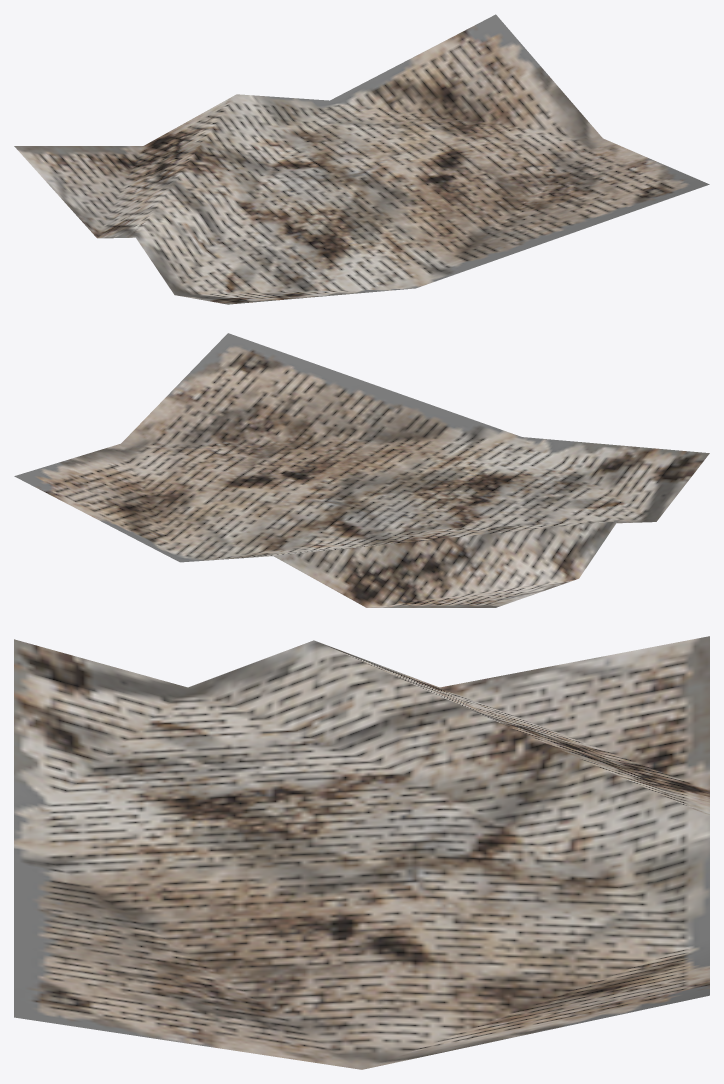
The model's file is Garbage1_4.fbx.
The picture shows the model from 3 angles, top to bottom: view 1: azimuth 30°, elevation 25°; view 2: azimuth 150°, elevation 25°; view 3: azimuth 270°, elevation 25°; orthographic projection. The views are drawn at different scales.
Visible parts, largest first — view 1: polySurface18; view 2: polySurface18; view 3: polySurface18.
Boxes of the visible parts, <box> form: polySurface18: <box>14,14,709,304</box>; polySurface18: <box>14,333,709,607</box>; polySurface18: <box>14,636,709,1069</box>.
Size of the model in its own units: 1.8 by 0.1629 by 1.38.
